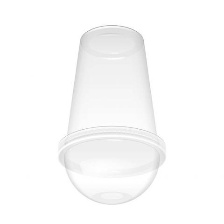glass: (53, 20, 169, 213)
